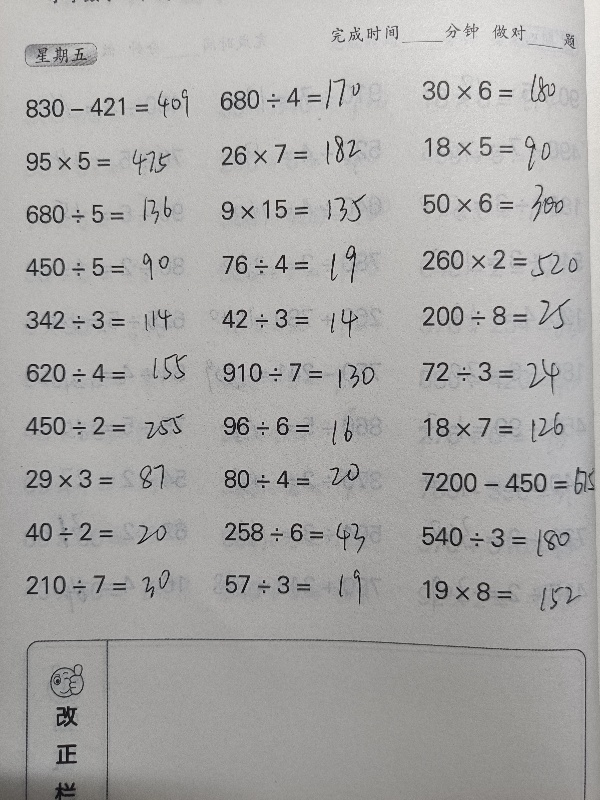equation: (413, 293, 593, 340), (212, 75, 392, 121), (216, 509, 396, 554), (413, 519, 593, 563), (414, 460, 594, 503), (414, 241, 594, 282), (416, 129, 583, 173), (414, 176, 574, 221), (17, 510, 197, 549), (212, 136, 392, 172), (414, 573, 594, 608), (416, 410, 596, 445), (215, 355, 395, 390), (415, 354, 595, 389), (214, 300, 394, 335), (17, 196, 197, 231), (17, 90, 197, 125), (216, 567, 396, 601), (17, 567, 197, 601), (216, 462, 396, 496), (18, 462, 198, 496), (215, 409, 395, 443), (17, 409, 197, 443), (18, 356, 198, 390), (18, 303, 198, 337), (18, 250, 198, 284), (214, 247, 394, 281), (212, 192, 392, 226), (17, 144, 197, 178), (414, 68, 565, 108)
